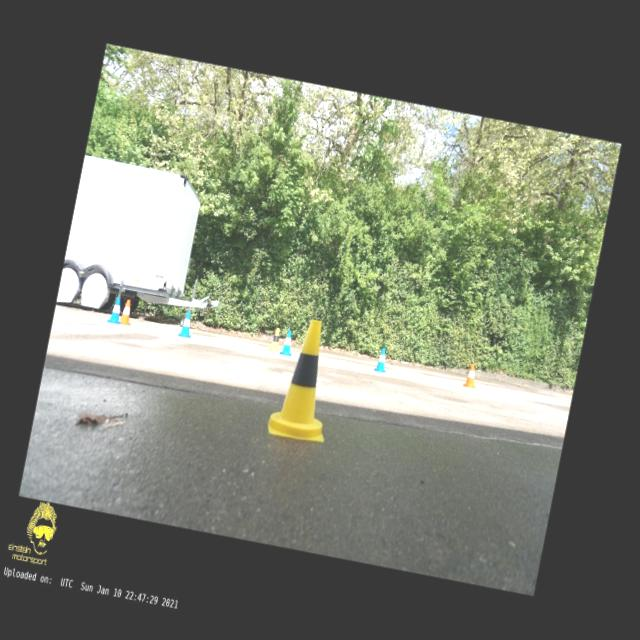blue_cone: (106, 296, 125, 324), (178, 310, 195, 338), (280, 329, 296, 356), (374, 347, 389, 372)
orange_cone: (118, 298, 136, 326), (462, 363, 480, 388)
yellow_cone: (266, 315, 346, 444), (268, 328, 284, 352)
